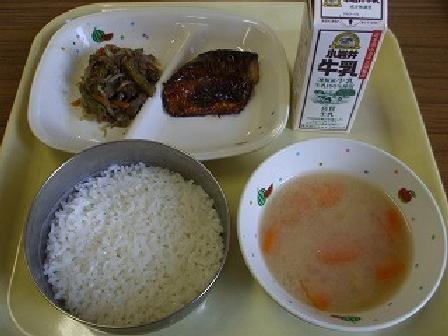Fish: (144, 38, 281, 139)
Milk: (285, 1, 398, 124)
Rice: (35, 134, 225, 323)
Soups: (241, 145, 445, 322)
salad with sauce: (76, 32, 166, 127)
